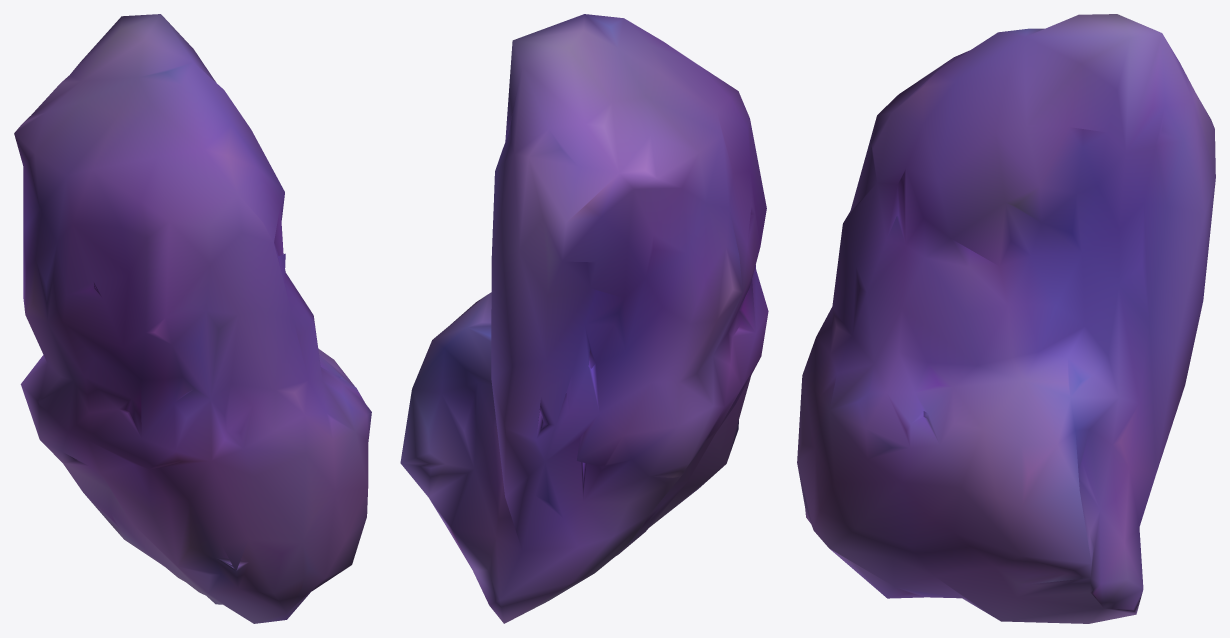
The model's file is fragmento_sol_sustenido.glb.
The picture shows the model from 3 angles, left to right: view 1: azimuth 30°, elevation 25°; view 2: azimuth 150°, elevation 25°; view 3: azimuth 270°, elevation 25°; orthographic projection. The views are drawn at different scales.
Bounding box in the file's own units: 0.568 × 0.9995 × 0.6542.
